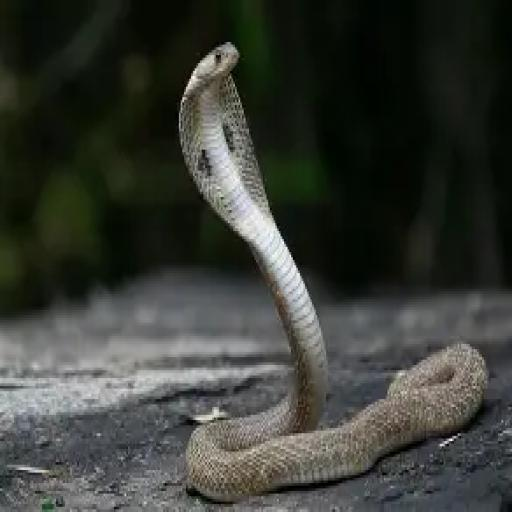snake: (179, 43, 489, 501)
